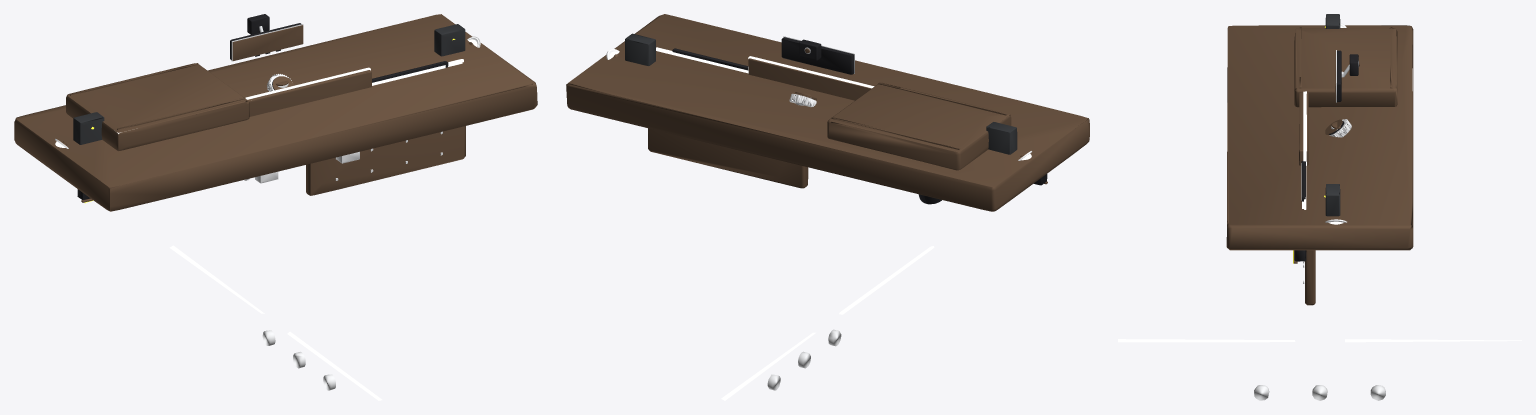
The model's file is dashboard_luxury_gt.glb.
3 renders of one model, left to right at view 1: azimuth 30°, elevation 25°; view 2: azimuth 150°, elevation 25°; view 3: azimuth 270°, elevation 25°, orthographic. The views are drawn at different scales.
Parts seen in each view (by area): view 1: GT_Dash_Upper_Leather_Cowl, GT_Dash_Binnacle_Shroud, GT_Dash_Passenger_Lower_Pad, GT_Dash_Toblerone_Housing, GT_Dash_Electrochromic_Mirror_GlassPlate, GEO_Dash_AmbientLightGuide, GT_Dash_Cinema_Virtual_VirtualMirror_R_Pod, GT_Dash_Cinema_Virtual_VirtualMirror_L_Pod, GEO_Dash_ClimateDials; view 2: GT_Dash_Upper_Leather_Cowl, GT_Dash_Binnacle_Shroud, GT_Dash_Passenger_Lower_Pad, GT_Dash_Toblerone_Housing, GT_Dash_Electrochromic_Mirror_RearShell, GEO_Dash_AmbientLightGuide, GT_Dash_Cinema_Virtual_VirtualMirror_R_Pod, GT_Dash_Cinema_Virtual_VirtualMirror_L_Pod, GEO_Dash_ClimateDials; view 3: GT_Dash_Upper_Leather_Cowl, GT_Dash_Binnacle_Shroud, GEO_Dash_AmbientLightGuide, GEO_Dash_ClimateDials, GT_Dash_Passenger_Lower_Pad, GT_Dash_Toblerone_Housing, GT_Dash_Cinema_Virtual_VirtualMirror_R_Pod.
Boxes of the visible parts, x1,y1,x2,y2 form: GT_Dash_Upper_Leather_Cowl: (14,14,537,211); GT_Dash_Binnacle_Shroud: (66,63,249,150); GT_Dash_Passenger_Lower_Pad: (306,126,465,195); GT_Dash_Toblerone_Housing: (248,70,371,116); GT_Dash_Electrochromic_Mirror_GlassPlate: (232,25,303,60); GEO_Dash_AmbientLightGuide: (169,245,382,400); GT_Dash_Cinema_Virtual_VirtualMirror_R_Pod: (434,24,465,56); GT_Dash_Cinema_Virtual_VirtualMirror_L_Pod: (73,112,104,144); GEO_Dash_ClimateDials: (262,330,335,390); GT_Dash_Upper_Leather_Cowl: (566,14,1089,211); GT_Dash_Binnacle_Shroud: (827,82,1011,170); GT_Dash_Passenger_Lower_Pad: (648,128,808,188); GT_Dash_Toblerone_Housing: (748,56,875,100); GT_Dash_Electrochromic_Mirror_RearShell: (781,37,854,74); GEO_Dash_AmbientLightGuide: (721,246,934,400); GT_Dash_Cinema_Virtual_VirtualMirror_R_Pod: (625,33,655,65); GT_Dash_Cinema_Virtual_VirtualMirror_L_Pod: (986,122,1017,154); GEO_Dash_ClimateDials: (767,329,841,390); GT_Dash_Upper_Leather_Cowl: (1226,25,1413,250); GT_Dash_Binnacle_Shroud: (1294,28,1397,107); GEO_Dash_AmbientLightGuide: (1118,339,1521,342); GEO_Dash_ClimateDials: (1254,385,1385,400); GT_Dash_Passenger_Lower_Pad: (1304,250,1315,305); GT_Dash_Toblerone_Housing: (1299,92,1308,165); GT_Dash_Cinema_Virtual_VirtualMirror_R_Pod: (1325,184,1340,216).
Bounding box in the file's own units: 1.48 × 1.13 × 1.25.
